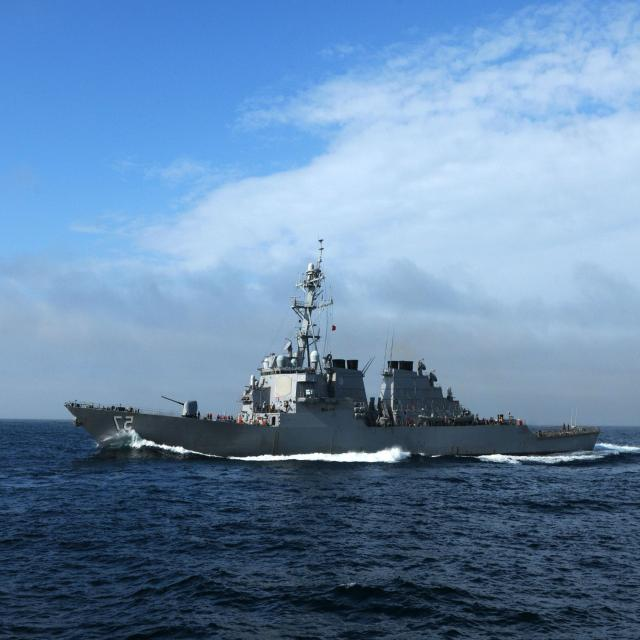navalvessels: (56, 251, 616, 481)
